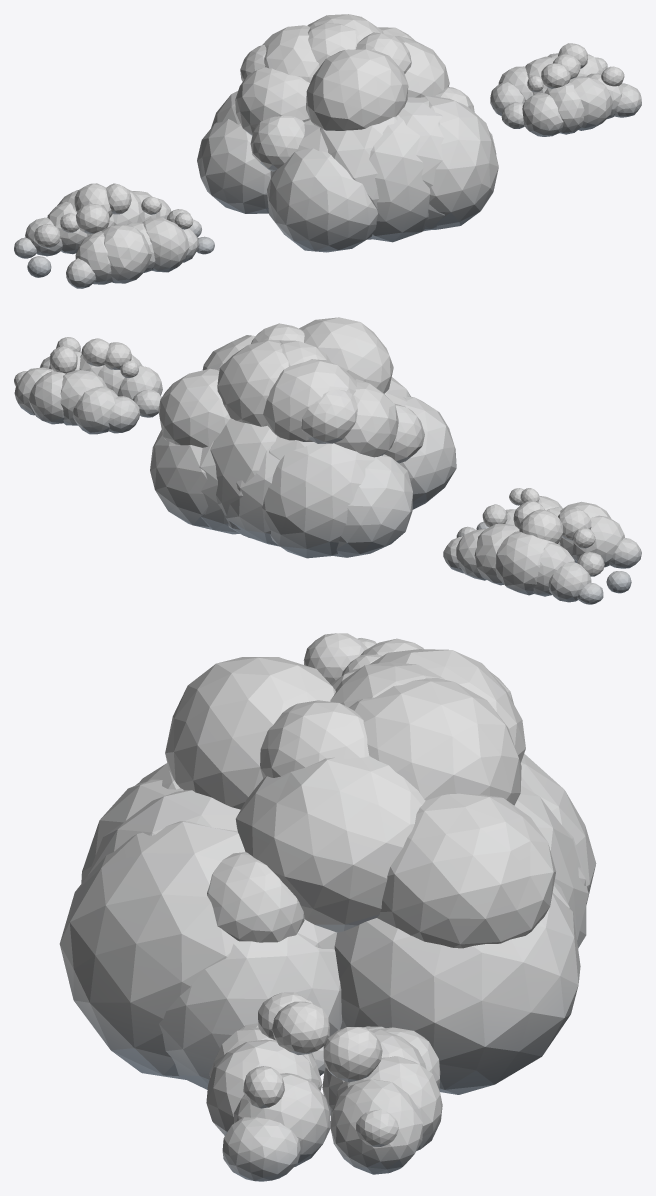
File: cloud-set-01.glb
3 views of the same model, one above another, from view 1: azimuth 30°, elevation 25°; view 2: azimuth 150°, elevation 25°; view 3: azimuth 270°, elevation 25° (orthographic). The views are drawn at different scales.
Visible parts, largest first — view 1: cloud_set_01; view 2: cloud_set_01; view 3: cloud_set_01.
Part boxes in pixels (x1=…): cloud_set_01: x1=14, y1=14, x2=641, y2=288; cloud_set_01: x1=14, y1=317, x2=641, y2=604; cloud_set_01: x1=59, y1=633, x2=596, y2=1181.
Bounding box in the file's own units: 3.97 × 1.13 × 1.57.
